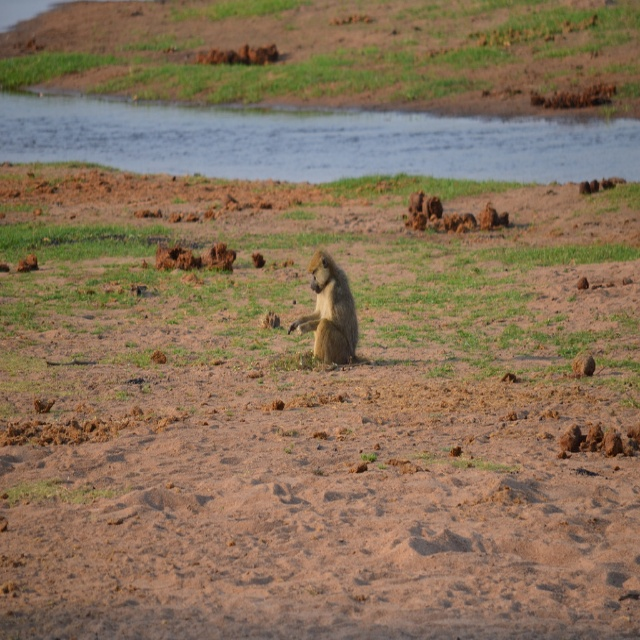Monkey: (288, 245, 362, 373)
